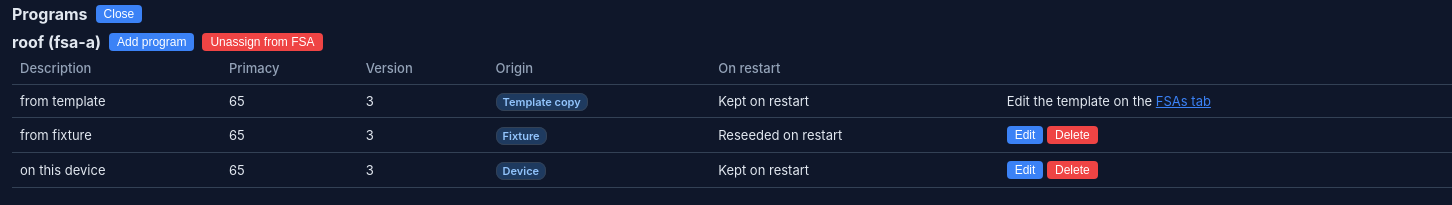
Test case: DevicePrograms unassign from FSA › Keep sends nothing and closes the confirmation
Click the button with test id "fsa-unassign-fsa-a". click: (262, 42)
box: [202,33,322,51]
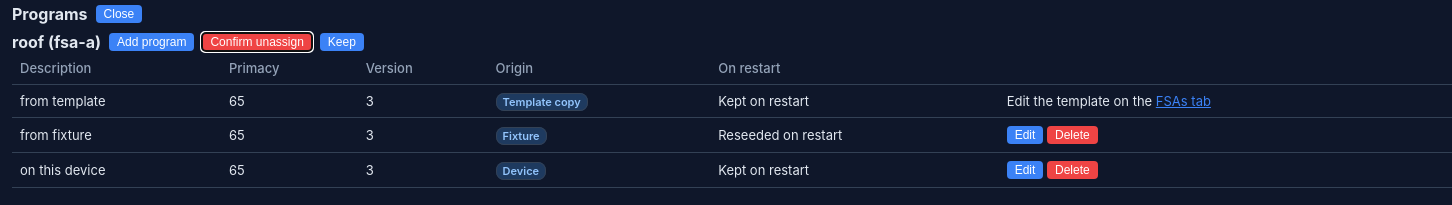
Click the button with aria-label "Keep assignment to roof (fsa-a)". click: (342, 42)
box: [320,33,364,51]
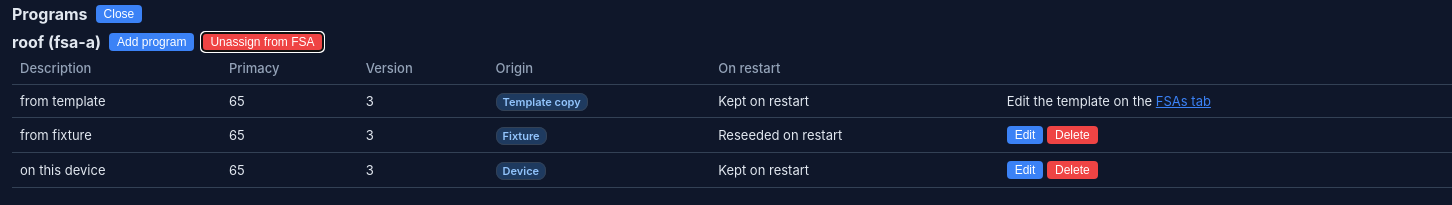
Result: the button with test id "fsa-unassign-fsa-a" is shown at [202,33,322,51]
